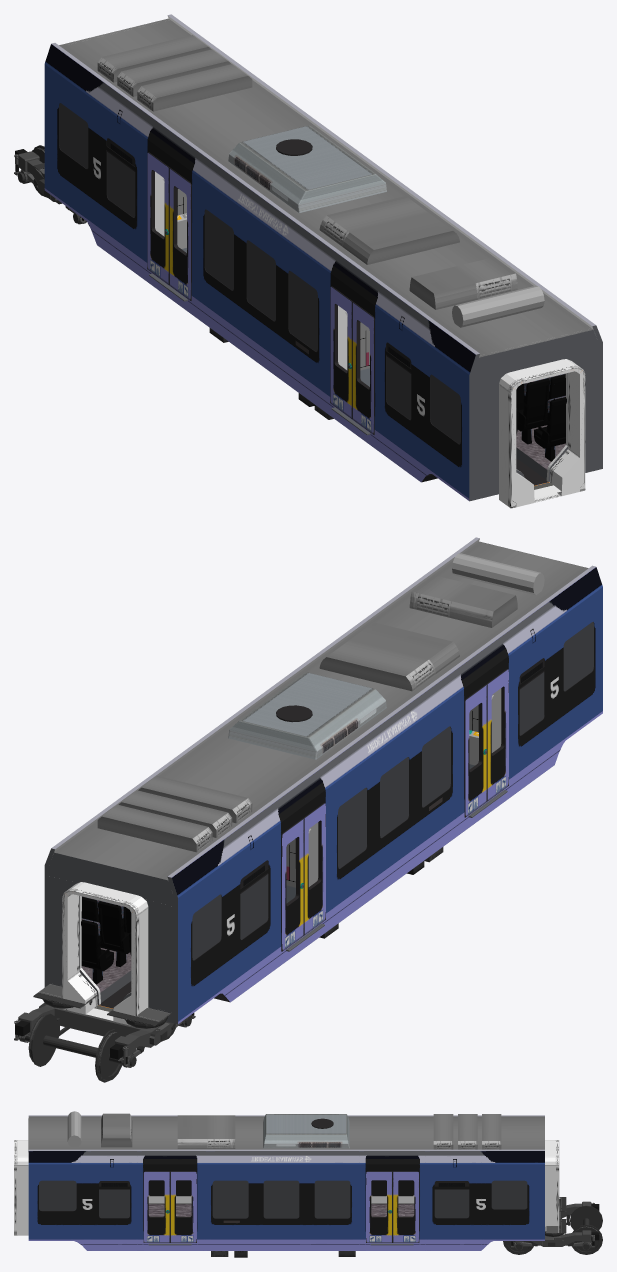
The model's file is ns_sng_civity_m_trident.obj.
The picture shows the model from 3 angles, top to bottom: view 1: azimuth 30°, elevation 25°; view 2: azimuth 150°, elevation 25°; view 3: azimuth 270°, elevation 25°; orthographic projection. The views are drawn at different scales.
Parts seen in each view (by area): view 1: side, aircon, jibung, glass, back_out, mak, door_RF, door_RB, chairs, dt71, doorside, badak (+2 smaller); view 2: side, aircon, jibung, glass, back_out, dt71, mak, door_RB, door_RF, chairs, doorside, badak (+2 smaller); view 3: side, jibung, aircon, glass, door_LF, door_LB, dt71, mak, badak, door_RF_in, door_RB_in, led_out (+2 smaller).
Part boxes in pixels (x1,y1,x2,y2): side: [44, 14, 602, 501]; aircon: [97, 35, 544, 327]; jibung: [59, 18, 593, 357]; glass: [59, 103, 460, 444]; back_out: [473, 330, 598, 499]; mak: [499, 359, 585, 508]; door_RF: [169, 167, 374, 434]; door_RB: [147, 152, 352, 418]; chairs: [516, 373, 566, 461]; dt71: [14, 145, 89, 226]; doorside: [155, 171, 347, 369]; badak: [516, 425, 565, 485]; side: [44, 537, 602, 1024]; aircon: [97, 553, 544, 852]; jibung: [54, 541, 588, 880]; glass: [192, 622, 593, 960]; back_out: [48, 852, 173, 1023]; dt71: [14, 983, 195, 1082]; mak: [62, 882, 148, 1025]; door_RB: [281, 684, 486, 951]; door_RF: [304, 669, 508, 935]; chairs: [81, 896, 131, 984]; doorside: [309, 688, 501, 886]; badak: [81, 948, 131, 1008]; side: [28, 1115, 544, 1250]; jibung: [28, 1118, 544, 1151]; aircon: [67, 1111, 501, 1149]; glass: [39, 1180, 527, 1218]; door_LF: [143, 1171, 392, 1242]; door_LB: [170, 1171, 419, 1242]; dt71: [503, 1197, 602, 1254]; mak: [14, 1140, 559, 1235]; badak: [148, 1204, 414, 1216]; door_RF_in: [148, 1180, 386, 1203]; door_RB_in: [176, 1180, 414, 1203]; led_out: [99, 1181, 469, 1189].
Bounding box in the file's own units: 3.08 × 4.2 × 18.4.
29 materials, 29 textured.
